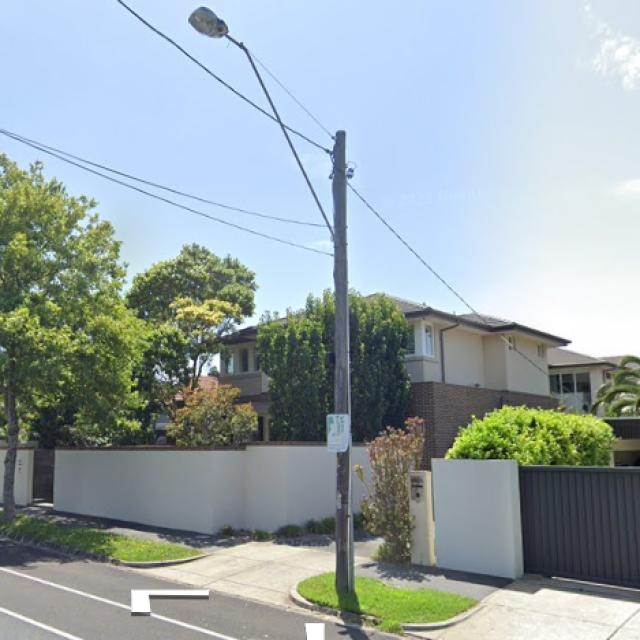light pole: (188, 5, 355, 593)
streetlight: (188, 5, 337, 239)
timber-pole: (332, 128, 354, 593)
